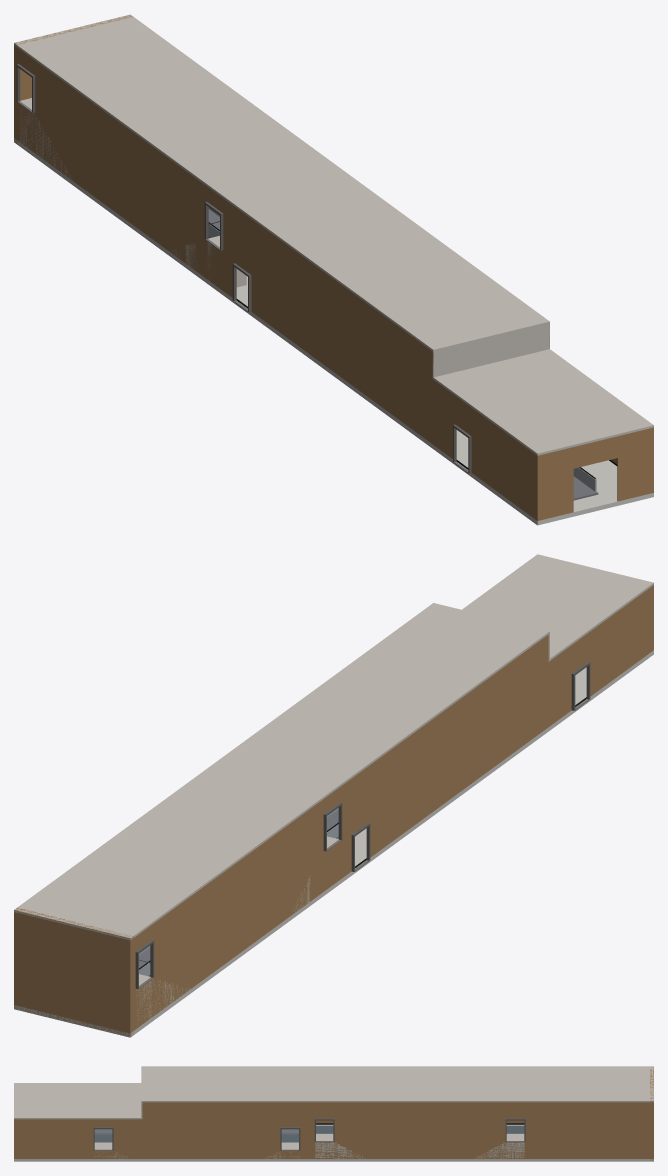
File: spine.glb
3 renders of one model, top to bottom at view 1: azimuth 30°, elevation 25°; view 2: azimuth 150°, elevation 25°; view 3: azimuth 270°, elevation 25°, orthographic. The views are drawn at different scales.
Visible parts, largest first — view 1: spine; view 2: spine; view 3: spine.
Boxes of the visible parts, x1,y1,x2,y2 form: spine: (14,14,653,525); spine: (14,554,653,1037); spine: (14,1066,653,1161).
Size of the model in its own units: 8.74 by 6.85 by 65.4.
